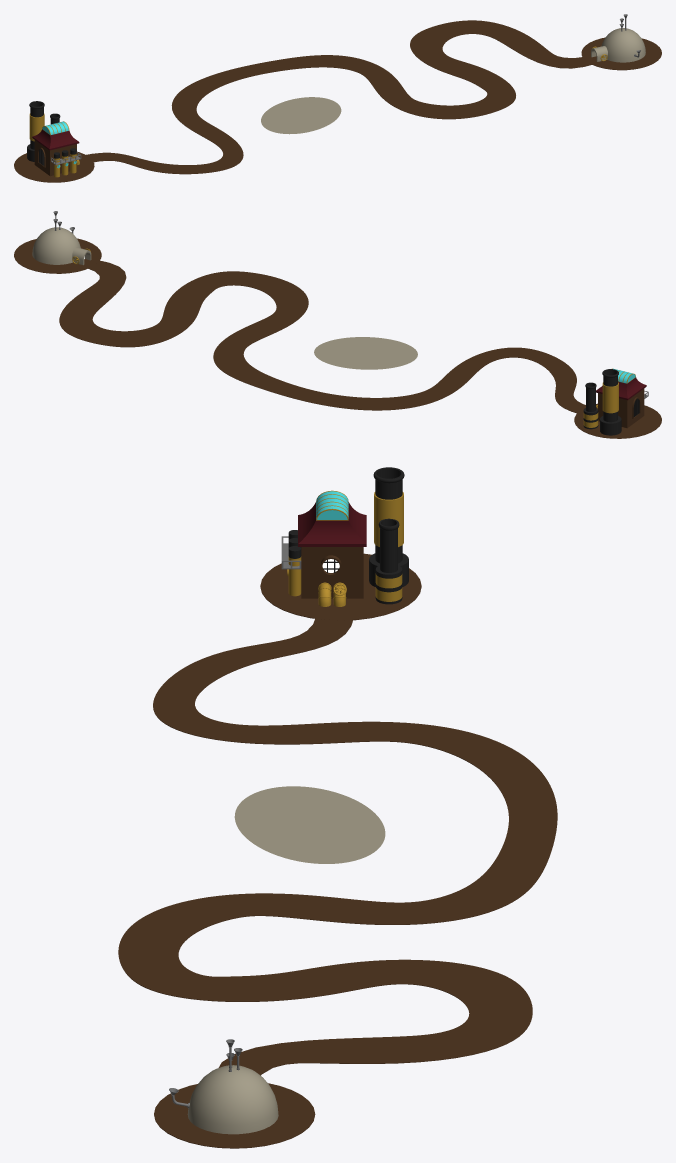
The model's file is Mapa.fbx.
3 renders of one model, top to bottom at view 1: azimuth 30°, elevation 25°; view 2: azimuth 150°, elevation 25°; view 3: azimuth 270°, elevation 25°, orthographic. The views are drawn at different scales.
Parts seen in each view (by area): view 1: Caminho, Water, Iglu, Casa, ChaoBase, ChaoInimigo, Chamines.001, Cilindros.001; view 2: Caminho, Water, Chamines.001, Iglu, ChaoInimigo, Casa, ChaoBase; view 3: Caminho, Water, Iglu, Casa, ChaoInimigo, Chamines.001, ChaoBase.
Boxes of the visible parts, x1=… form: Caminho: x1=86, y1=20, x2=591, y2=174; Water: x1=261, y1=97, x2=341, y2=134; Iglu: x1=601, y1=28, x2=645, y2=62; Casa: x1=32, y1=129, x2=79, y2=176; ChaoBase: x1=14, y1=151, x2=94, y2=182; ChaoInimigo: x1=581, y1=37, x2=661, y2=70; Chamines.001: x1=27, y1=101, x2=60, y2=161; Cilindros.001: x1=54, y1=148, x2=76, y2=177; Caminho: x1=59, y1=260, x2=585, y2=413; Water: x1=314, y1=337, x2=417, y2=369; Chamines.001: x1=583, y1=369, x2=621, y2=435; Iglu: x1=32, y1=227, x2=80, y2=264; ChaoInimigo: x1=14, y1=238, x2=101, y2=273; Casa: x1=596, y1=377, x2=646, y2=428; ChaoBase: x1=574, y1=403, x2=661, y2=438; Caminho: x1=118, y1=618, x2=557, y2=1075; Water: x1=234, y1=786, x2=385, y2=863; Iglu: x1=187, y1=1065, x2=278, y2=1134; Casa: x1=298, y1=502, x2=366, y2=598; ChaoInimigo: x1=154, y1=1083, x2=315, y2=1148; Chamines.001: x1=369, y1=467, x2=408, y2=604; ChaoBase: x1=260, y1=553, x2=421, y2=620.
Size of what is drawn, in the model's own units: 10173 by 901 by 3168.
